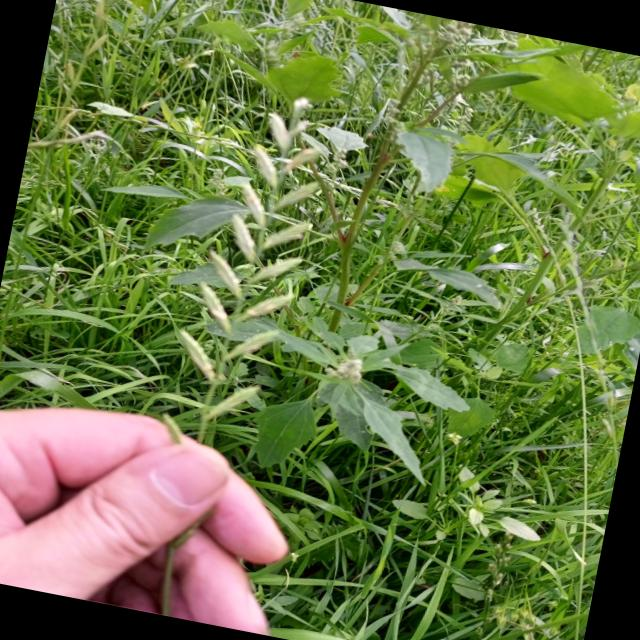Lolium: (152, 86, 338, 465)
